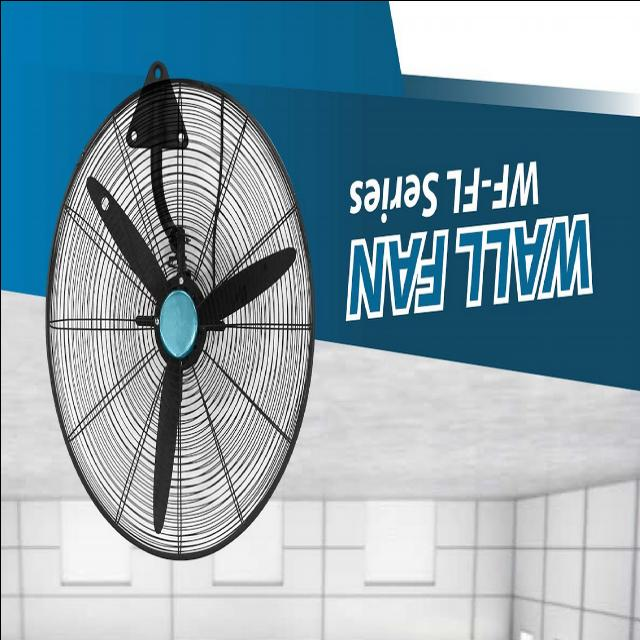fan: (43, 56, 312, 562)
